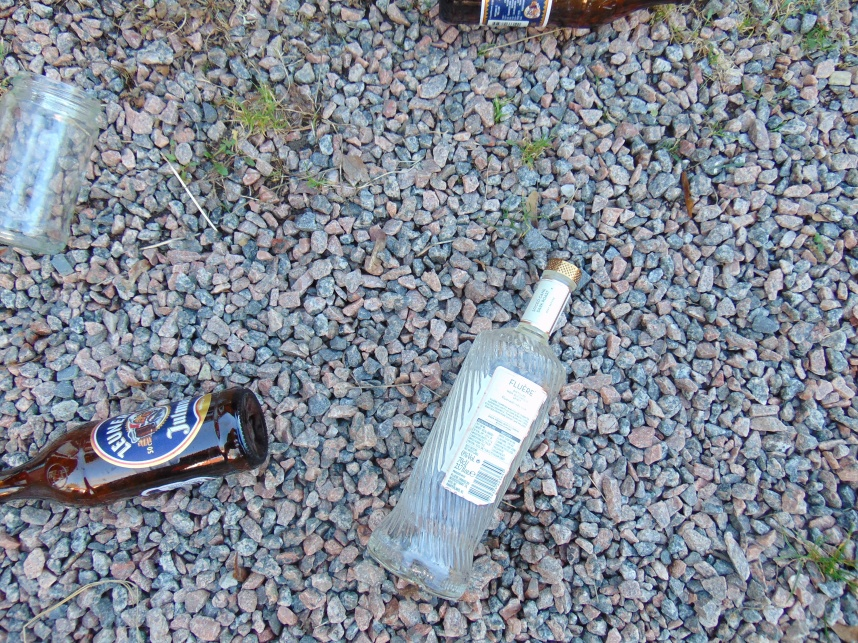glass_bottle: (364, 258, 589, 600), (1, 384, 270, 507), (1, 78, 104, 258), (437, 1, 695, 25)
